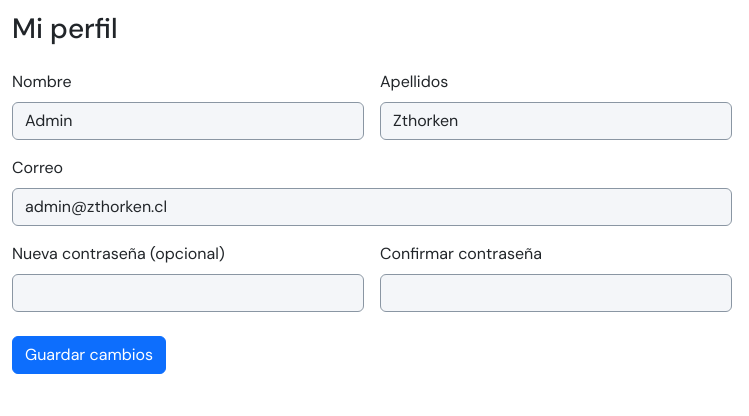
Perfil › valida la nueva contraseña
The image size is (749, 416).
In the password field labelled "Nueva contraseña (opcional)": (188, 293) top-left (12, 274), bottom-right (364, 312), type "123"
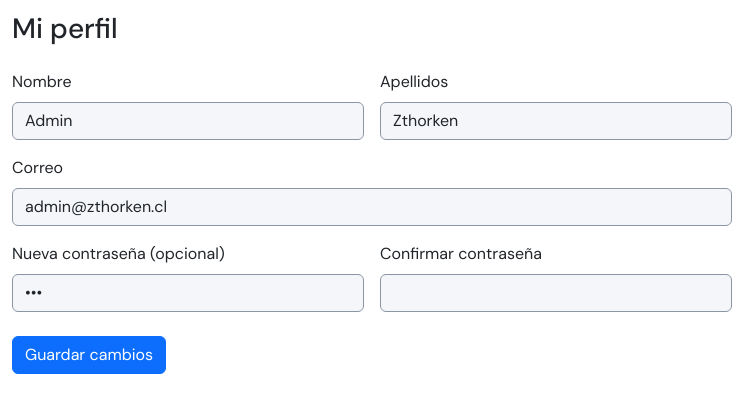
In the password field labelled "Confirmar contraseña": (556, 293) top-left (380, 274), bottom-right (732, 312), type "456"
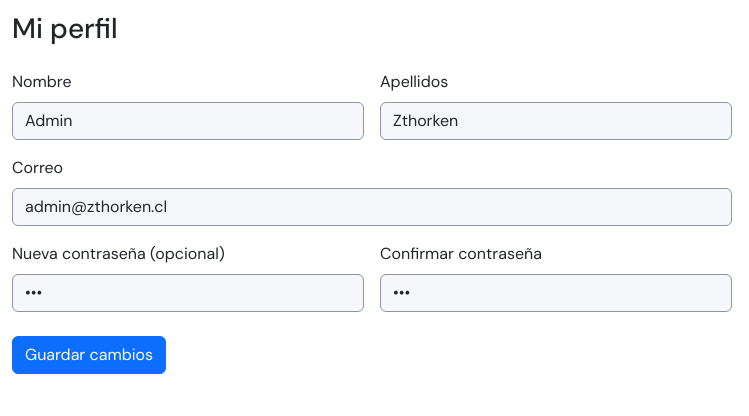
Click the button "Guardar cambios": (89, 355) top-left (12, 336), bottom-right (166, 374)
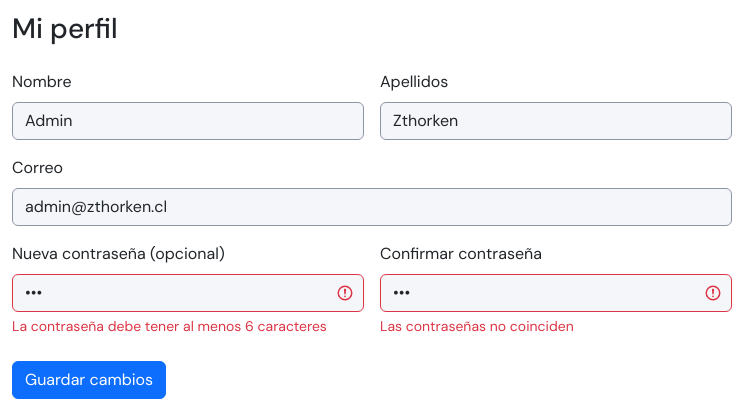
Result: the text "La contraseña debe tener al menos 6 caracteres" is shown at top-left (12, 316), bottom-right (364, 337)
Result: the text "Las contraseñas no coinciden" is shown at top-left (380, 317), bottom-right (574, 335)
